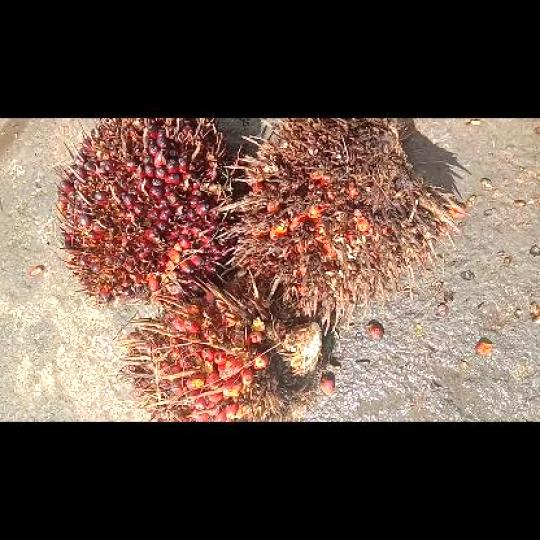masak: (55, 118, 236, 306), (118, 268, 322, 420)
terlalu masak: (218, 118, 460, 331)
